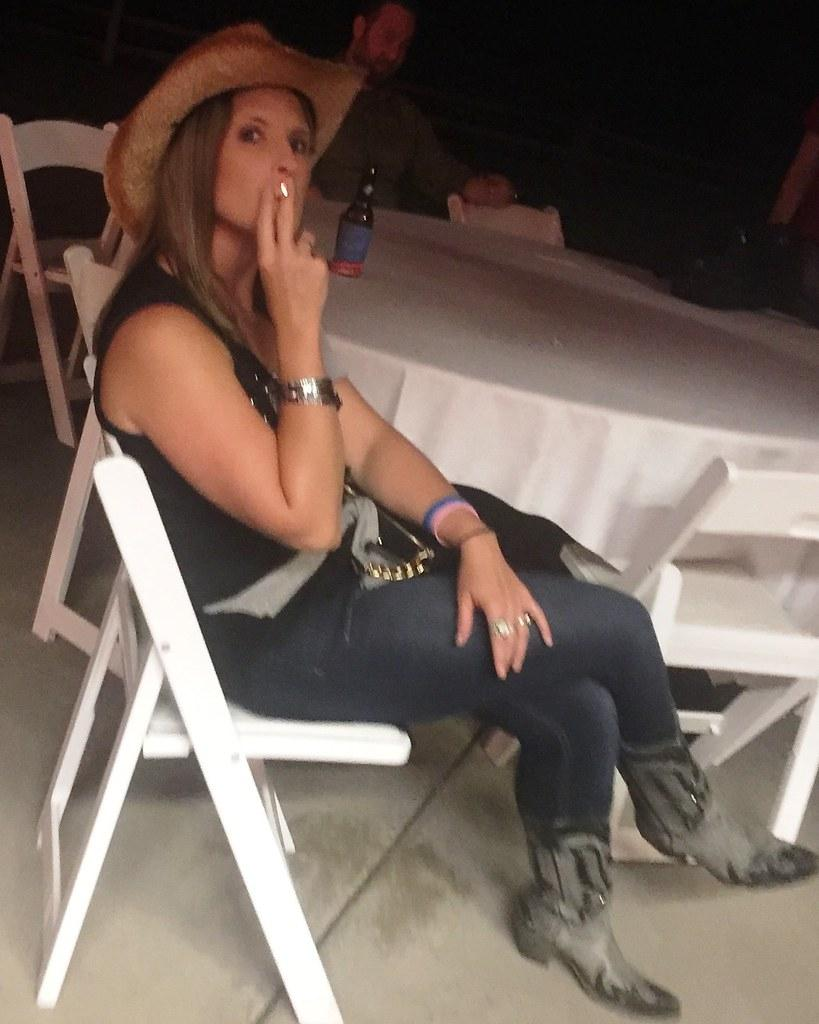cigarette: (272, 180, 290, 202)
